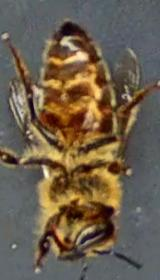varroa_mite: (34, 107, 61, 132), (94, 99, 112, 126)
